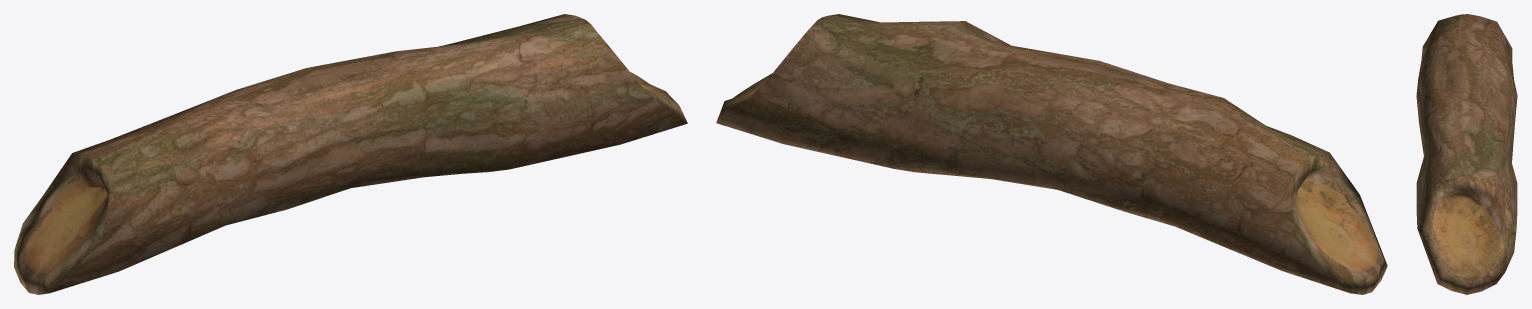
Rendered from stock.fbx.
The picture shows the model from 3 angles, left to right: view 1: azimuth 30°, elevation 25°; view 2: azimuth 150°, elevation 25°; view 3: azimuth 270°, elevation 25°; orthographic projection. The views are drawn at different scales.
Parts seen in each view (by area): view 1: stock; view 2: stock; view 3: stock.
Part boxes in pixels (x1,y1,x2,y2): stock: (14,14,687,294); stock: (716,14,1387,294); stock: (1416,14,1517,294).
Bounding box in the file's own units: 16.51 × 3.7 × 3.06.
